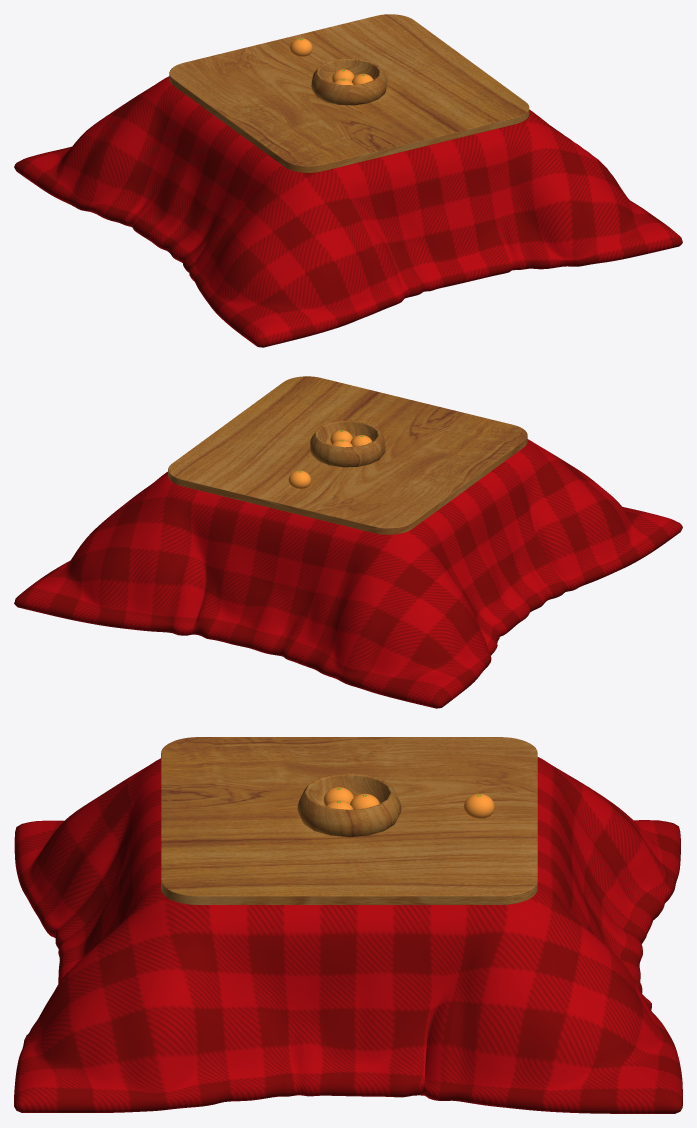
The model's file is kotatsu.fbx.
3 renders of one model, top to bottom at view 1: azimuth 30°, elevation 25°; view 2: azimuth 150°, elevation 25°; view 3: azimuth 270°, elevation 25°, orthographic. The views are drawn at different scales.
Parts seen in each view (by area): view 1: polySurface20, pCube19, pSphere3; view 2: polySurface20, pCube19, pSphere3; view 3: polySurface20, pCube19, pSphere3, pSphere2.
Part boxes in pixels (left/top/right/bottom): polySurface20: left=14, top=76, right=682, bottom=347; pCube19: left=169, top=14, right=529, bottom=172; pSphere3: left=311, top=58, right=387, bottom=105; polySurface20: left=14, top=439, right=682, bottom=708; pCube19: left=168, top=376, right=527, bottom=534; pSphere3: left=310, top=420, right=385, bottom=467; polySurface20: left=14, top=757, right=682, bottom=1113; pCube19: left=161, top=737, right=537, bottom=904; pSphere3: left=297, top=773, right=401, bottom=837; pSphere2: left=464, top=793, right=494, bottom=818.
Bounding box in the file's own units: 25.75 × 7.8 × 25.75.
